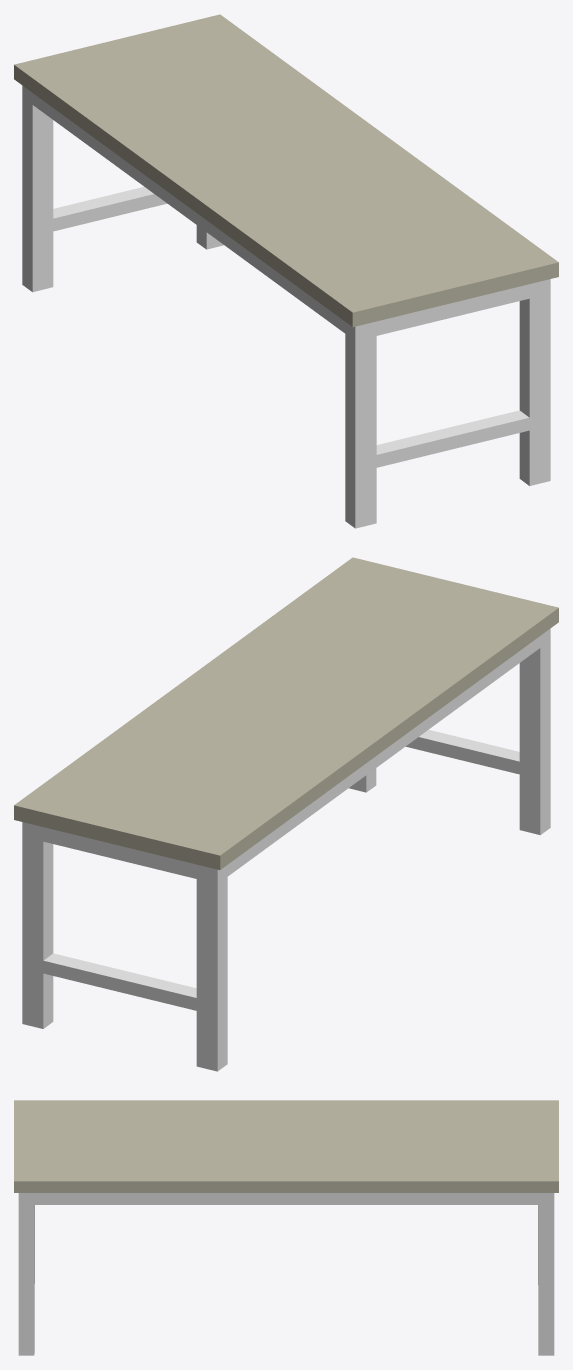
Rendered from bench.glb.
3 views of the same model, one above another, from view 1: azimuth 30°, elevation 25°; view 2: azimuth 150°, elevation 25°; view 3: azimuth 270°, elevation 25° (orthographic). The views are drawn at different scales.
Visible parts, largest first — view 1: Bench; view 2: Bench; view 3: Bench.
Part boxes in pixels (x1,y1,x2,y2): Bench: [14, 14, 558, 528]; Bench: [14, 557, 558, 1071]; Bench: [14, 1100, 558, 1355].
Bounding box in the file's own units: 0.7014 × 0.7134 × 2.
